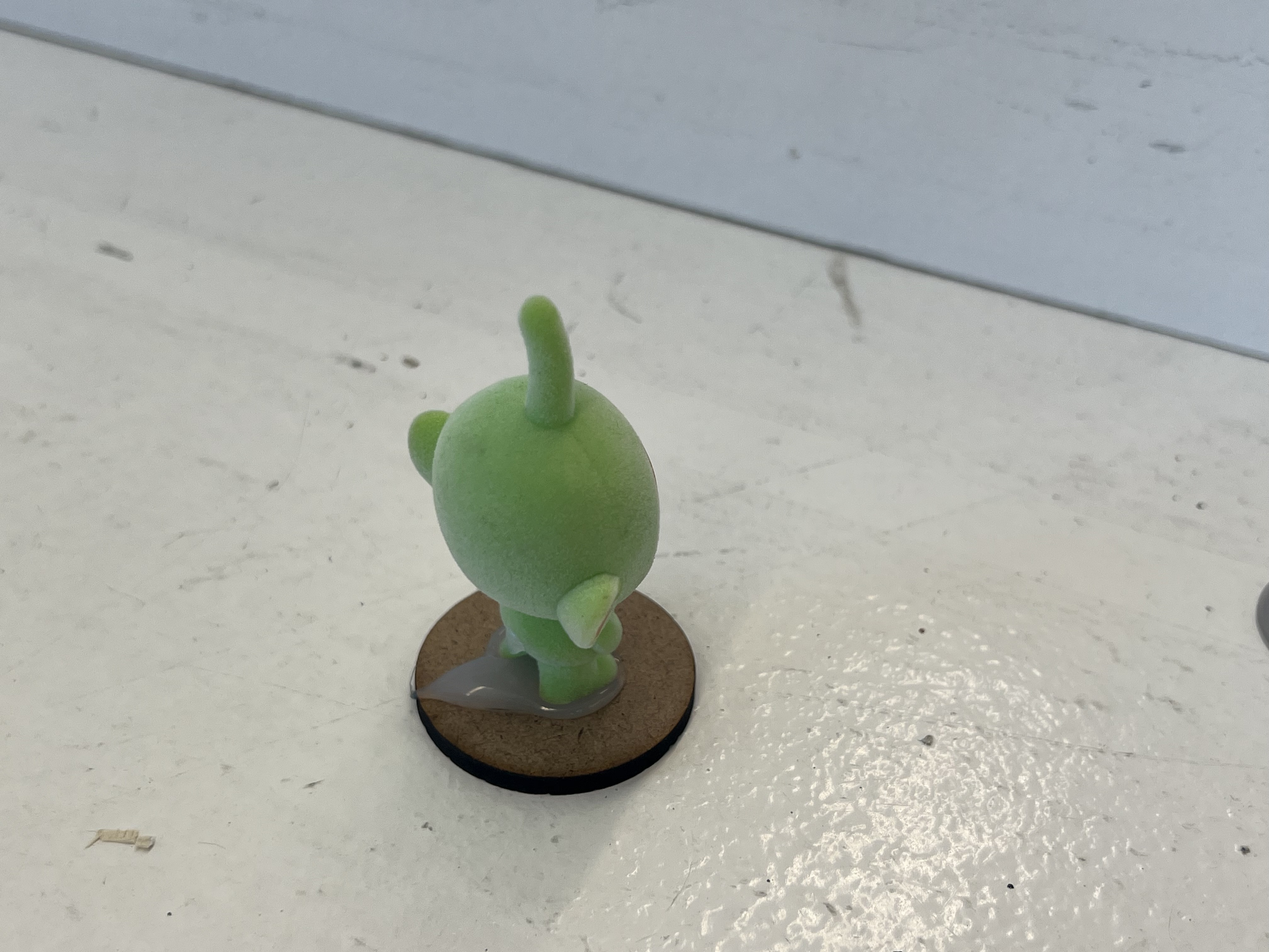teletubby: (408, 296, 659, 704)
